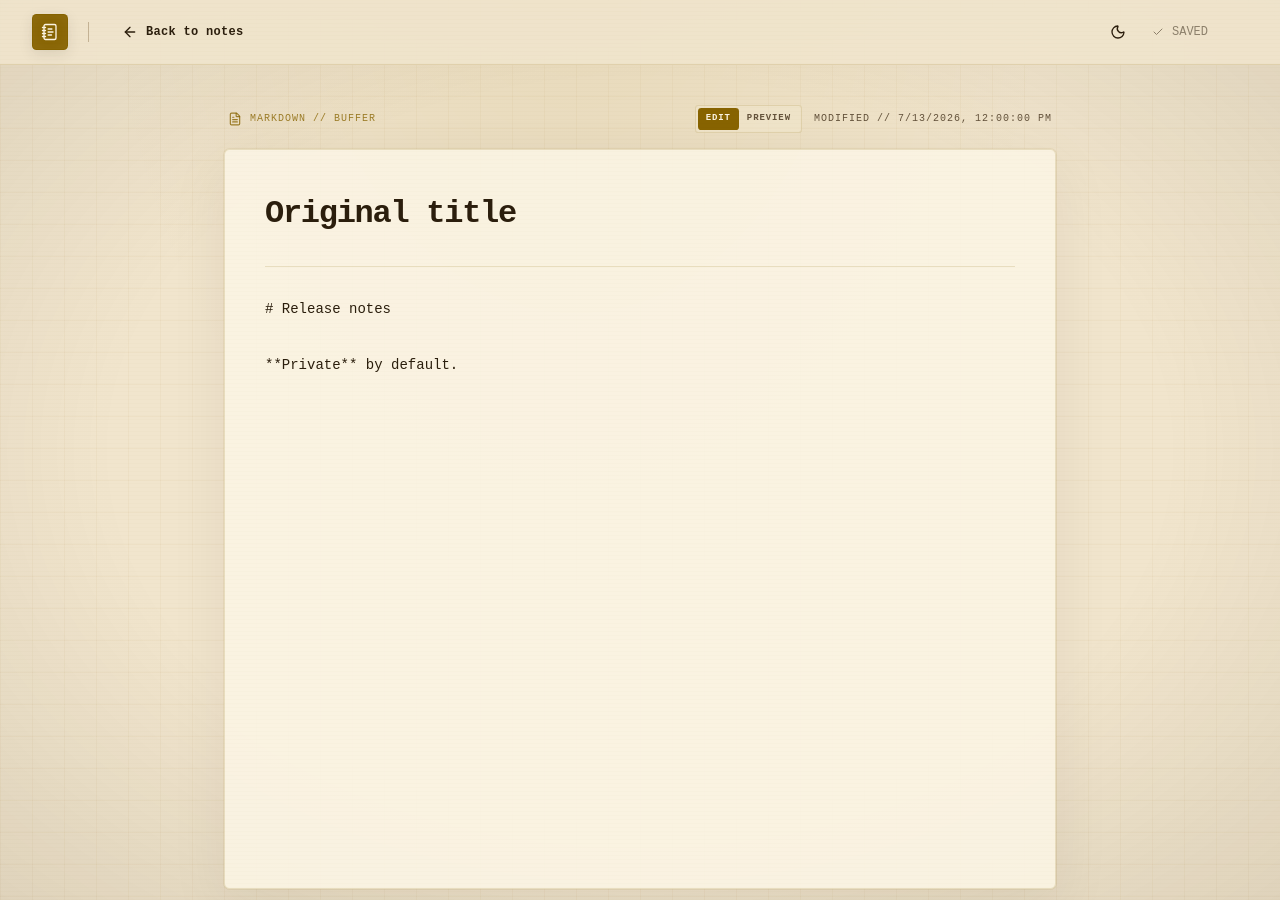
Test: NoteEditor autosave › renders markdown in preview mode without leaving the editor
Click the tab "preview": (769, 119) [739,108,799,130]
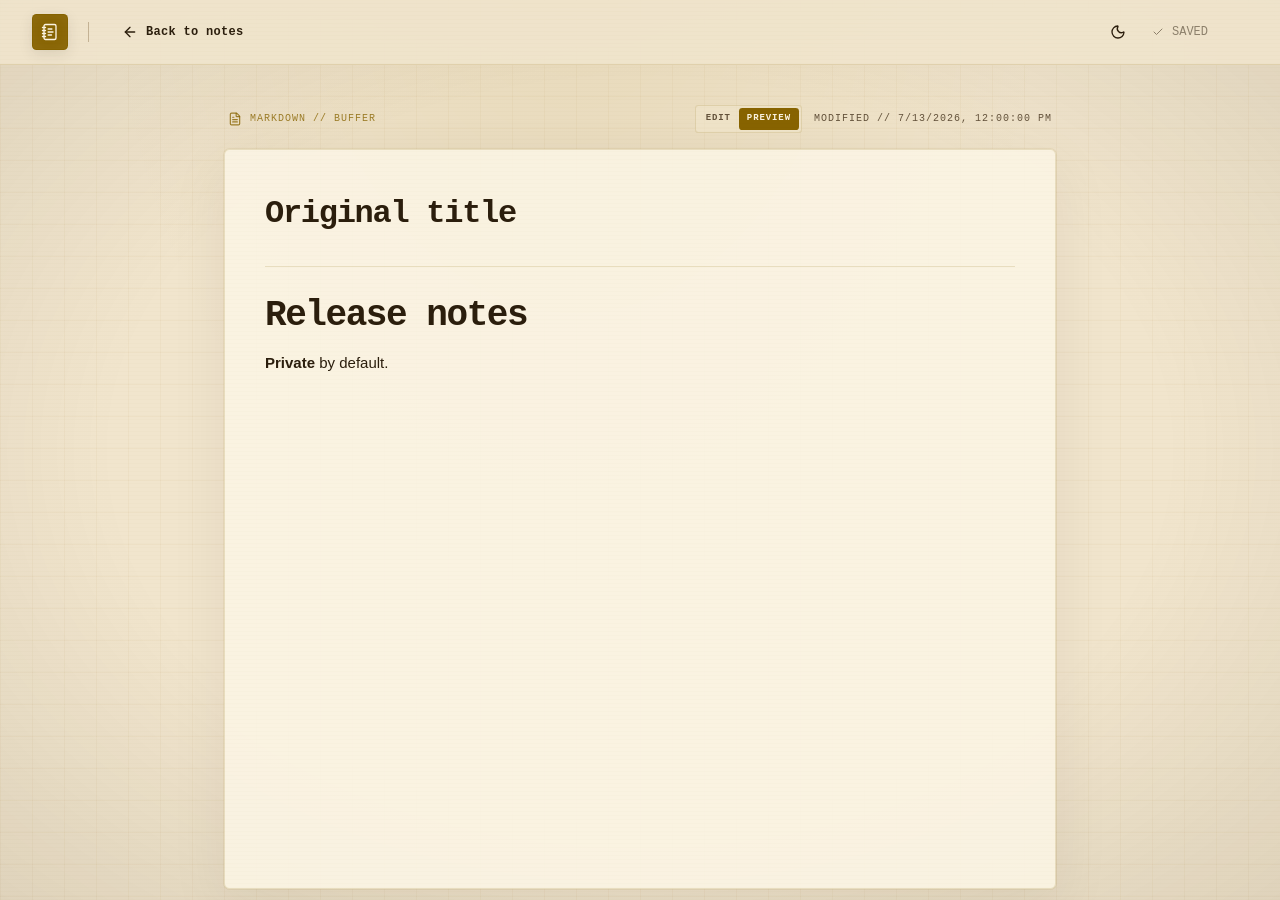
Check: the heading "Release notes" is shown, box [265,294,527,336]
Check: the text "Private" is shown, box [265,354,315,371]
Click the tab "edit": (718, 119) [698,108,739,130]
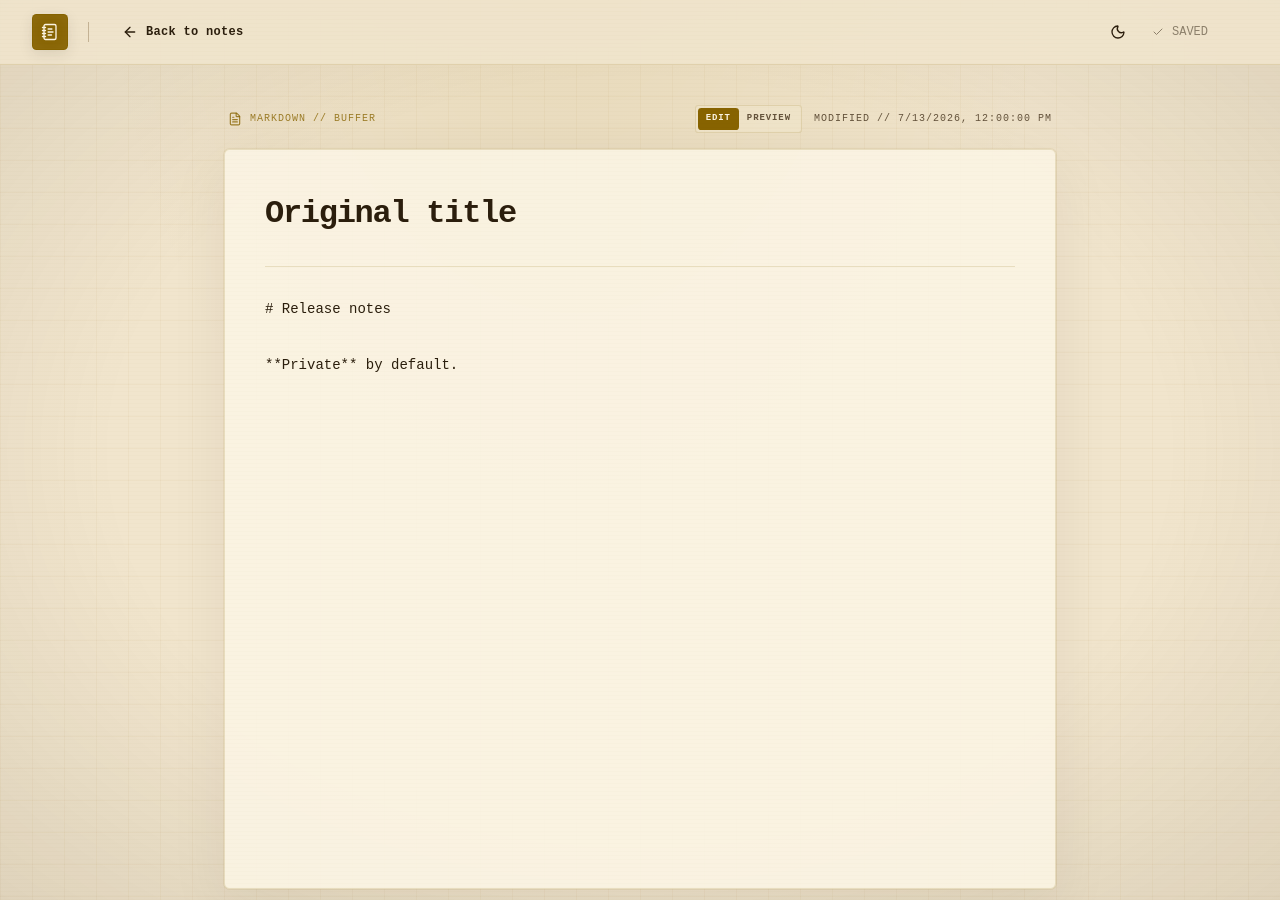
Check: the text box with placeholder "Start writing..." is shown, box [265,294,1015,834]
